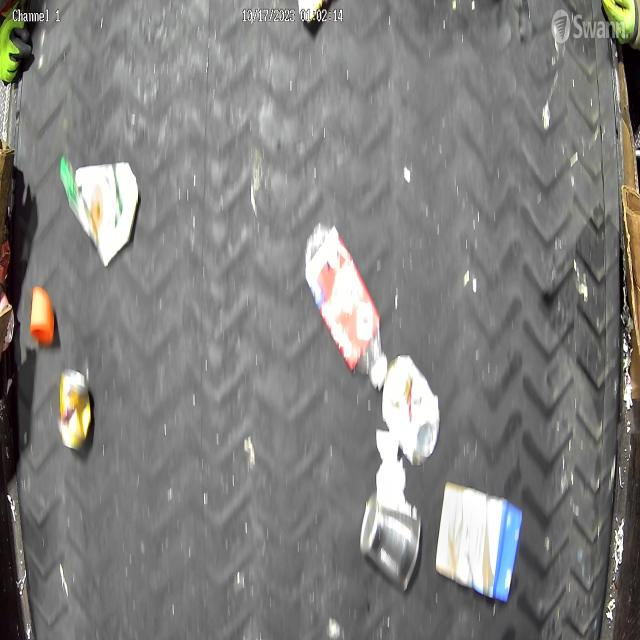can: (381, 355, 441, 467), (360, 494, 420, 592), (56, 367, 92, 454)
